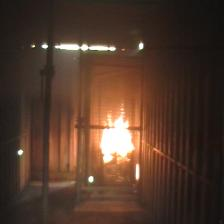fire: (101, 106, 135, 170)
